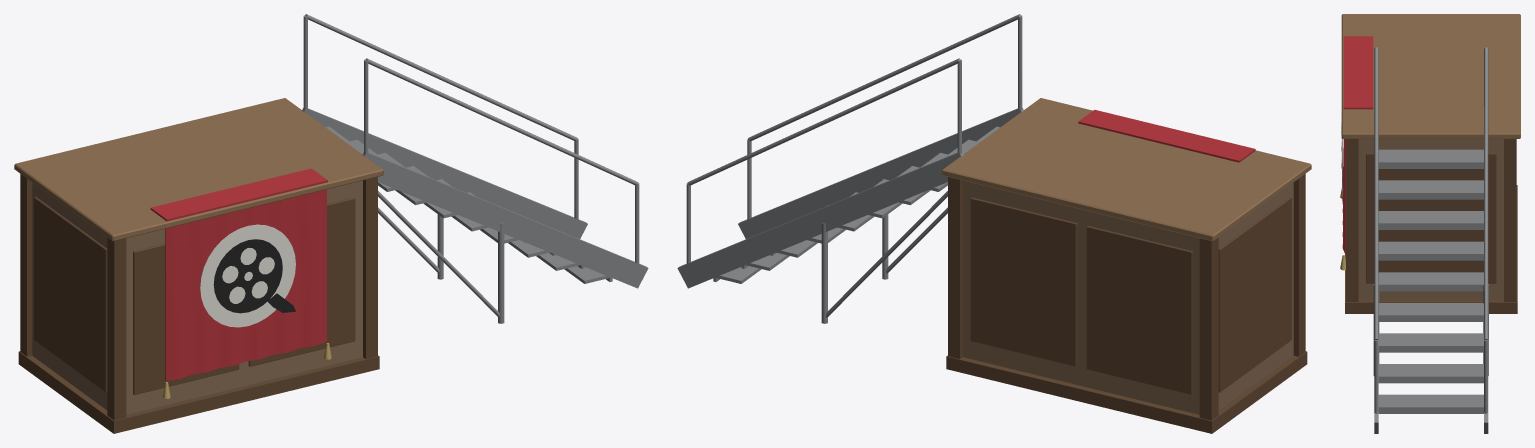
File: turret_podium.glb
The picture shows the model from 3 angles, left to right: view 1: azimuth 30°, elevation 25°; view 2: azimuth 150°, elevation 25°; view 3: azimuth 270°, elevation 25°; orthographic projection. The views are drawn at different scales.
Parts seen in each view (by area): view 1: dark_wood__turret_podium__solid, stage_wood__turret_podium__solid, steel__turret_podium__solid, velvet__turret_podium__solid, wood__turret_podium__solid, chalk__turret_podium__ns, rubber__turret_podium__ns; view 2: dark_wood__turret_podium__solid, stage_wood__turret_podium__solid, steel__turret_podium__solid, wood__turret_podium__solid, velvet__turret_podium__solid; view 3: steel__turret_podium__solid, stage_wood__turret_podium__solid, dark_wood__turret_podium__solid, wood__turret_podium__solid, velvet__turret_podium__solid.
Part boxes in pixels (bbox=[...]): dark_wood__turret_podium__solid: bbox=[18, 174, 379, 433]; stage_wood__turret_podium__solid: bbox=[14, 98, 383, 241]; steel__turret_podium__solid: bbox=[302, 14, 648, 323]; velvet__turret_podium__solid: bbox=[150, 168, 327, 380]; wood__turret_podium__solid: bbox=[32, 180, 362, 414]; chalk__turret_podium__ns: bbox=[200, 224, 295, 327]; rubber__turret_podium__ns: bbox=[213, 239, 295, 313]; dark_wood__turret_podium__solid: bbox=[946, 174, 1307, 433]; stage_wood__turret_podium__solid: bbox=[942, 98, 1311, 241]; steel__turret_podium__solid: bbox=[677, 14, 1023, 323]; wood__turret_podium__solid: bbox=[963, 180, 1293, 414]; velvet__turret_podium__solid: bbox=[1078, 109, 1255, 162]; steel__turret_podium__solid: bbox=[1373, 47, 1488, 433]; stage_wood__turret_podium__solid: bbox=[1341, 14, 1520, 138]; dark_wood__turret_podium__solid: bbox=[1345, 139, 1517, 313]; wood__turret_podium__solid: bbox=[1358, 139, 1503, 299]; velvet__turret_podium__solid: bbox=[1342, 36, 1373, 254].
Size of the model in its own units: 5.5 by 2.81 by 1.72.
